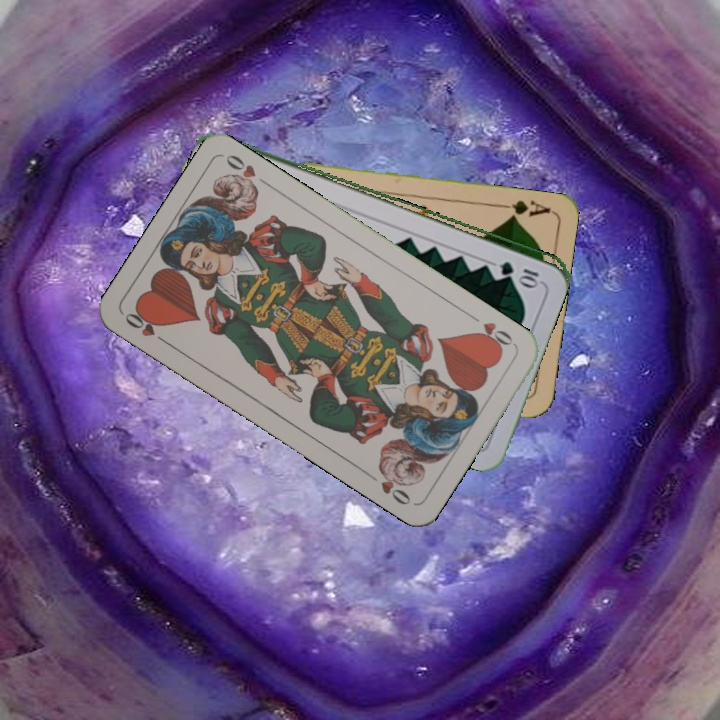G10: (495, 257, 541, 286)
GA: (494, 196, 553, 222)
HO: (465, 310, 518, 354), (120, 305, 172, 348)
